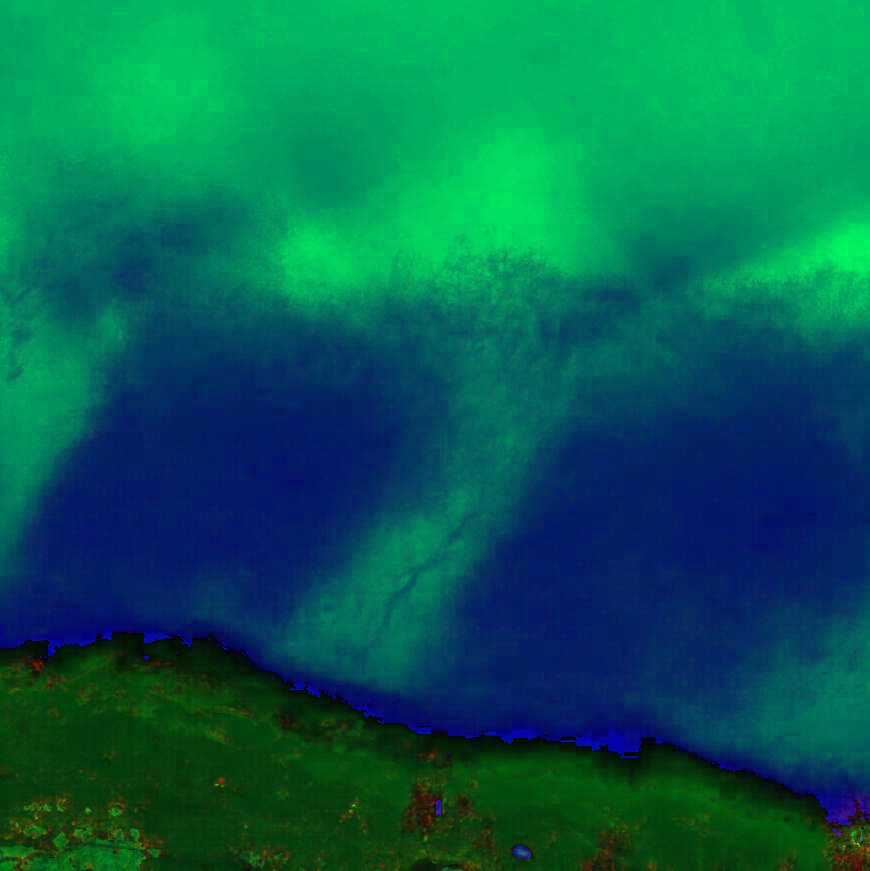rip_current: (268, 325, 585, 683)
